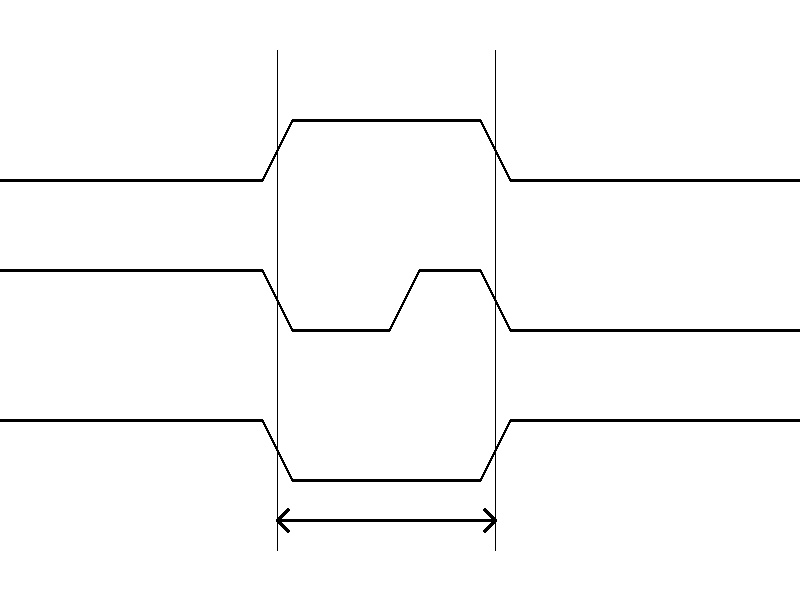double_arrow: (277, 505, 495, 535)
